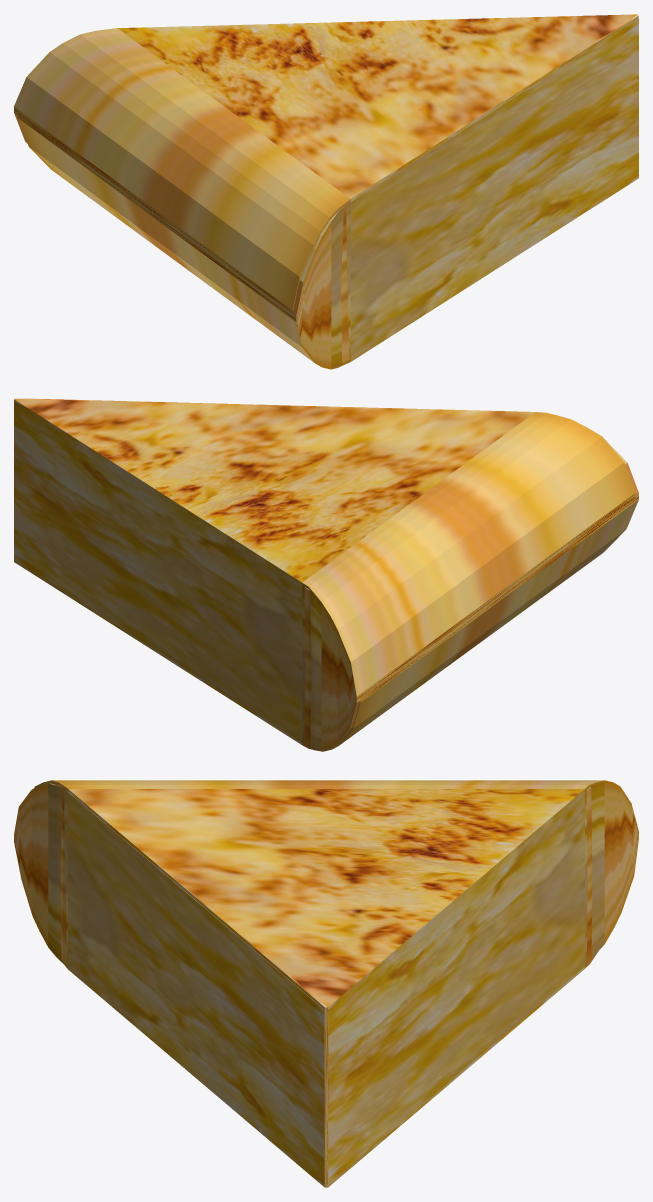
Rendered from truita.glb.
3 renders of one model, top to bottom at view 1: azimuth 30°, elevation 25°; view 2: azimuth 150°, elevation 25°; view 3: azimuth 270°, elevation 25°, orthographic. The views are drawn at different scales.
Visible parts, largest first — view 1: Cube, Cube.001; view 2: Cube, Cube.001; view 3: Cube, Cube.001.
Part boxes in pixels (x1=…): Cube: x1=14, y1=14, x2=638, y2=362; Cube.001: x1=17, y1=18, x2=638, y2=369; Cube: x1=14, y1=398, x2=635, y2=750; Cube.001: x1=14, y1=440, x2=638, y2=751; Cube: x1=34, y1=780, x2=638, y2=1184; Cube.001: x1=14, y1=783, x2=598, y2=1187.
Bounding box in the file's own units: 2.39 × 0.7713 × 2.42.
2 materials, 2 textured.
